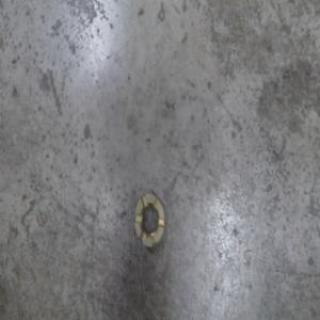Nuttrack_idkeyframe: (133, 187, 167, 250)
